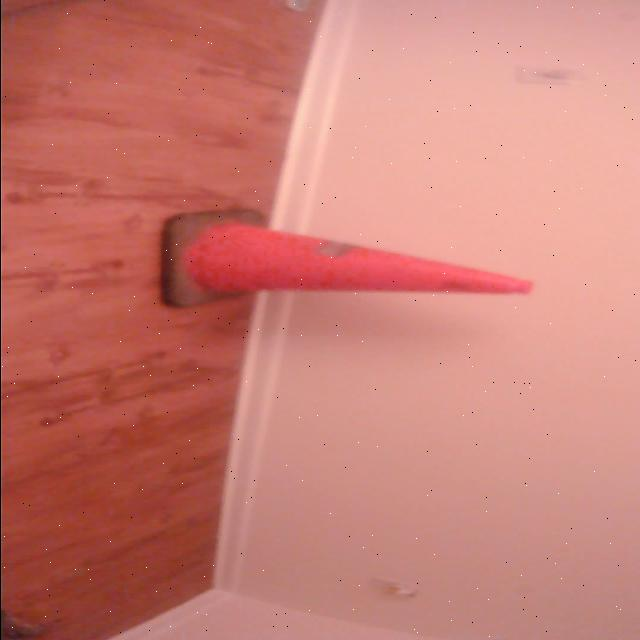traffic cone: (149, 207, 541, 315)
